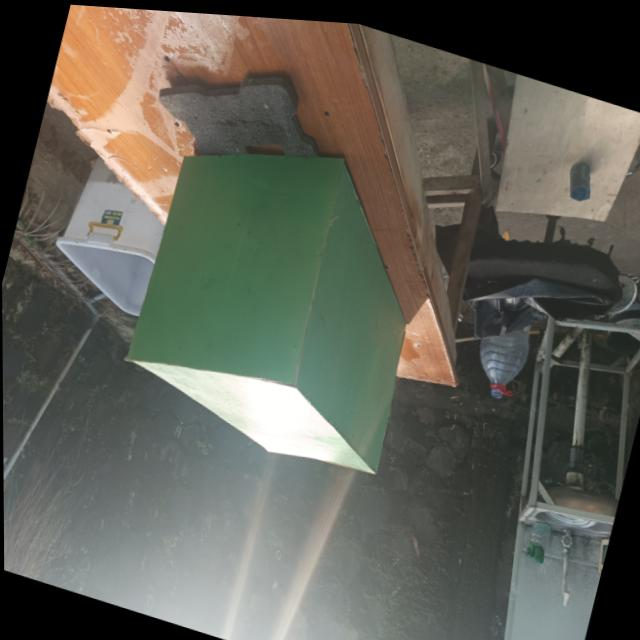green_box: (73, 63, 481, 550)
